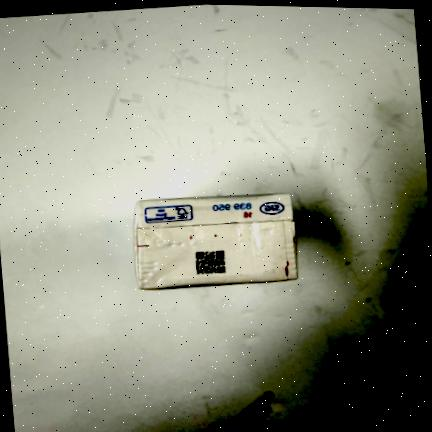milk_blue: (134, 194, 298, 290)
